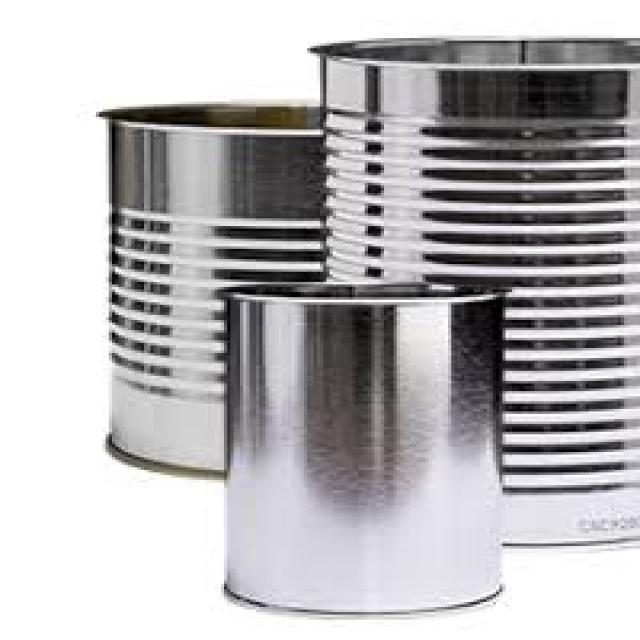recyclable: (308, 34, 640, 548), (220, 280, 514, 620), (93, 99, 326, 483)
